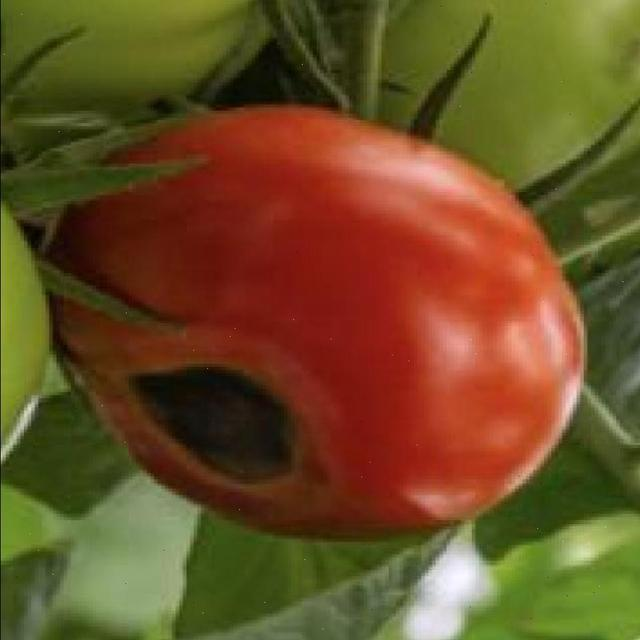Blossom End Rot Fruit: (76, 224, 220, 328)
